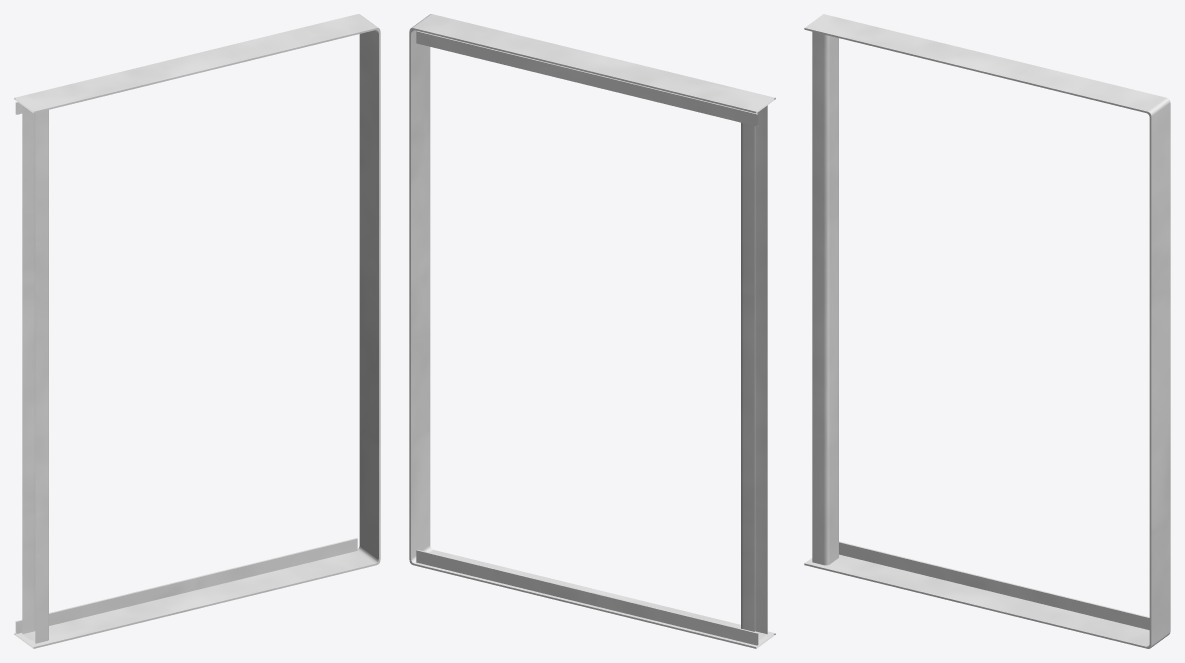
File: ShelfMetalFrame60cm.obj
The picture shows the model from 3 angles, left to right: view 1: azimuth 30°, elevation 25°; view 2: azimuth 150°, elevation 25°; view 3: azimuth 330°, elevation 25°; orthographic projection.
Parts seen in each view (by area): view 1: ShelfMetalFrame60cm; view 2: ShelfMetalFrame60cm; view 3: ShelfMetalFrame60cm.
Part boxes in pixels (<box>): ShelfMetalFrame60cm: <box>14,14,380,648</box>; ShelfMetalFrame60cm: <box>409,14,775,648</box>; ShelfMetalFrame60cm: <box>804,14,1170,648</box>.
Bounding box in the file's own units: 0.419 × 0.62 × 0.04.
Materials: 1 (1 with a texture image).
